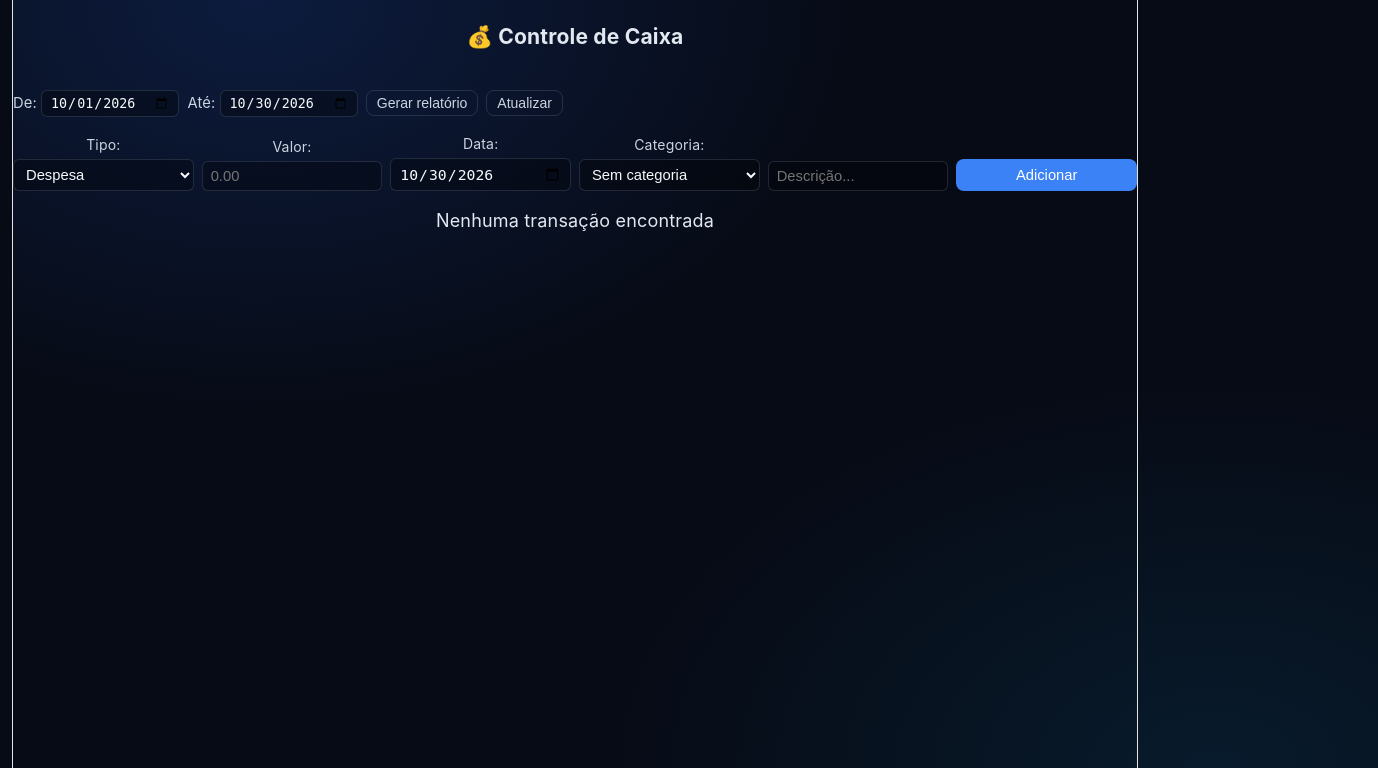
Test: CashManager › loads a report when generate button is clicked
Click the button "Gerar relatório".
click(422, 103)  # box [366,90,478,116]
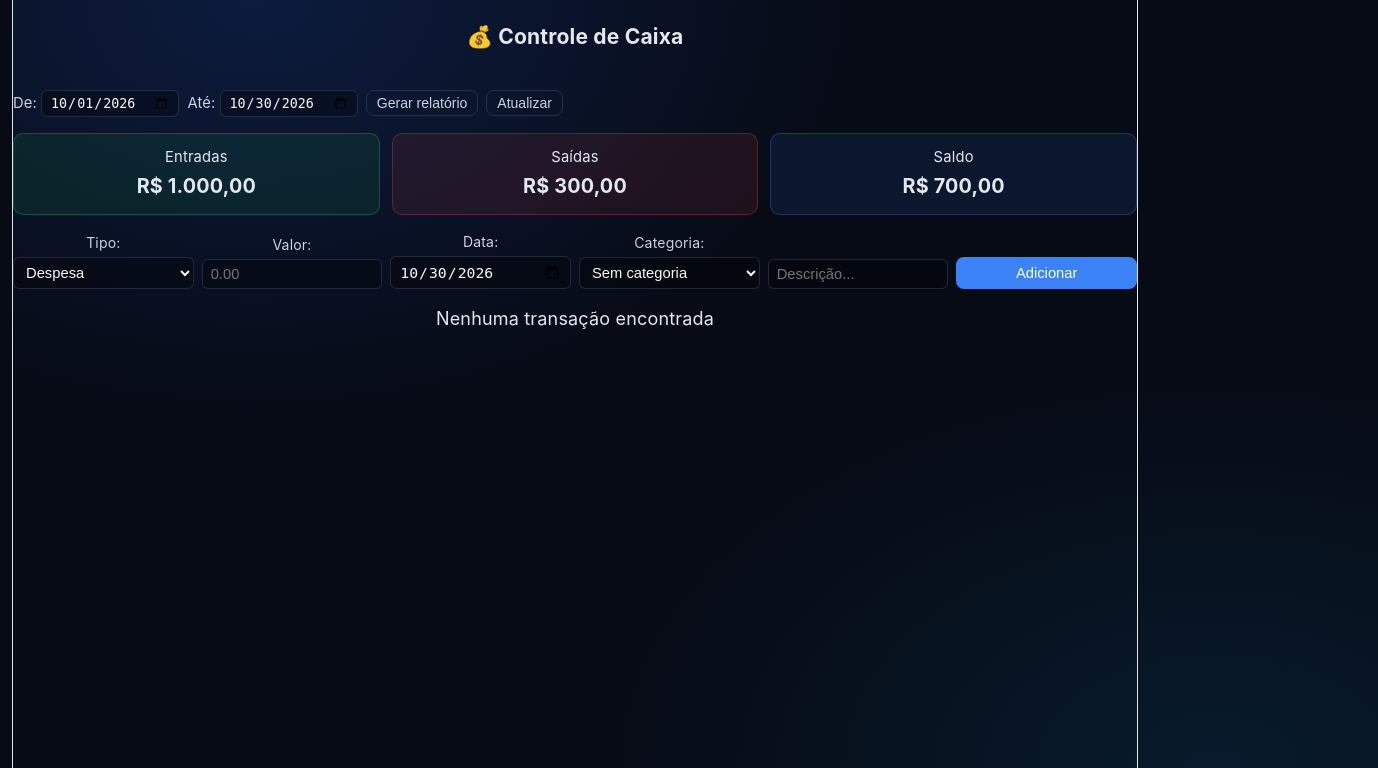
Now the text "Entradas" is shown, box [165,148,228,166]
Now the text "Saídas" is shown, box [551,148,599,166]
Now the text "Saldo" is shown, box [934,148,974,166]
